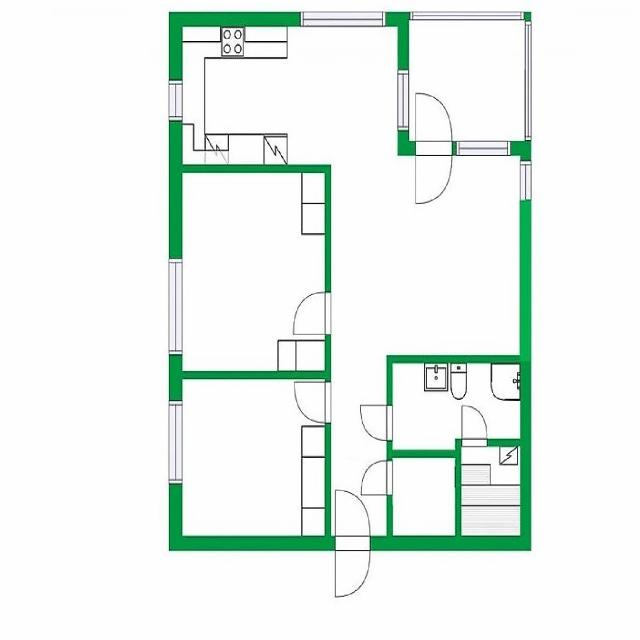door: (416, 141, 452, 205), (416, 92, 452, 156), (336, 491, 370, 551), (336, 537, 370, 597), (293, 292, 330, 335), (294, 383, 330, 423), (360, 406, 392, 441), (462, 406, 488, 446), (362, 461, 392, 495)
